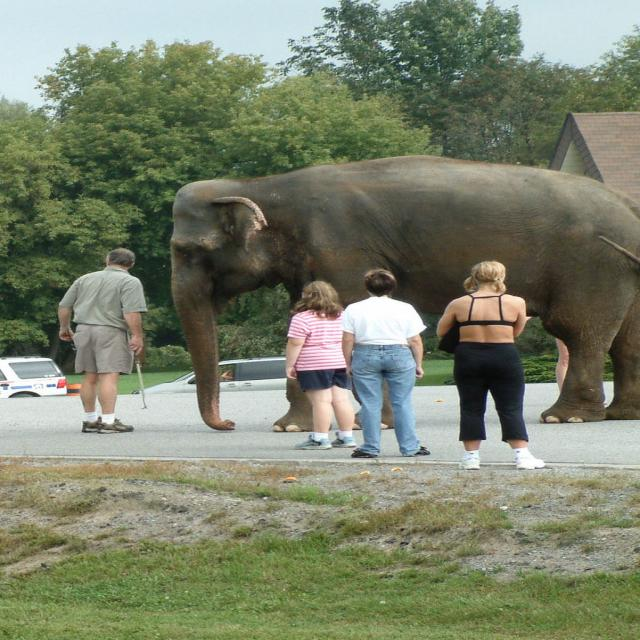elephant: (160, 152, 638, 378)
